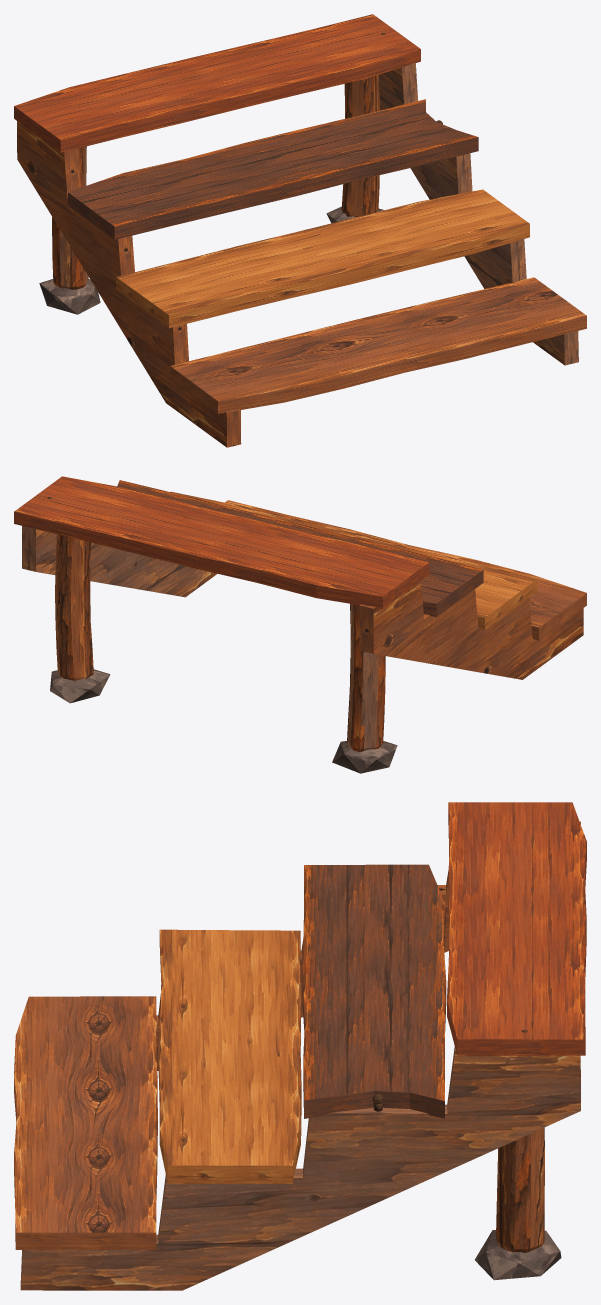
Rendered from foundation_steps__plank_root.glb.
The picture shows the model from 3 angles, top to bottom: view 1: azimuth 30°, elevation 25°; view 2: azimuth 150°, elevation 25°; view 3: azimuth 270°, elevation 25°; orthographic projection. The views are drawn at different scales.
Visible parts, largest first — view 1: model; view 2: model; view 3: model.
Boxes of the visible parts, x1,y1,x2,y2 form: model: [14, 14, 586, 447]; model: [14, 476, 586, 773]; model: [14, 802, 586, 1290].
Size of the model in its own units: 1.94 by 0.9827 by 1.99.
Materials: 13 (13 with a texture image).
